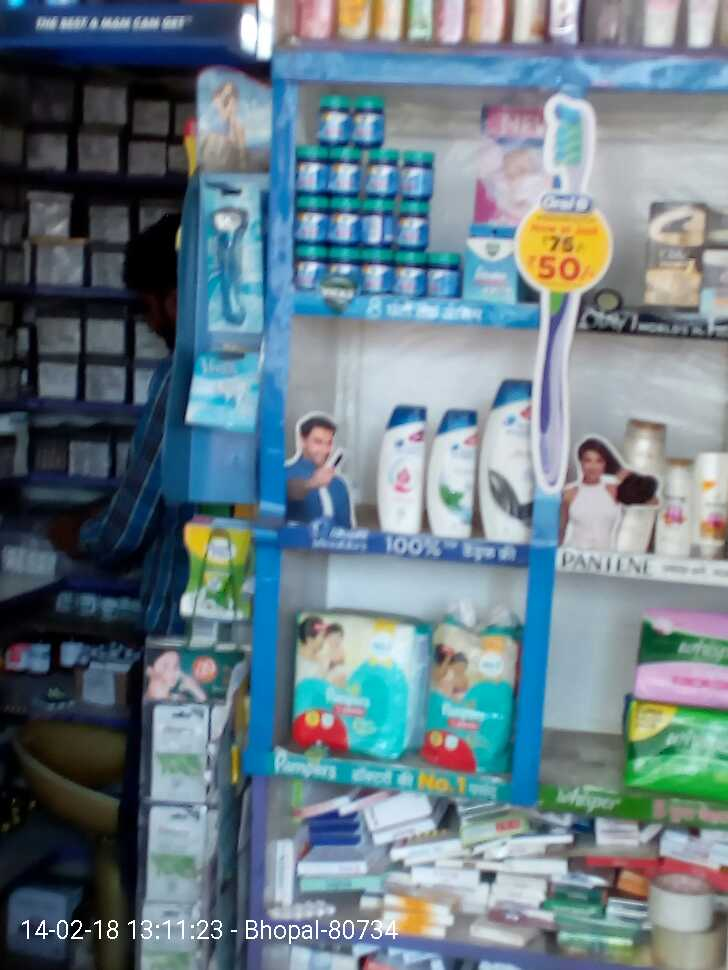beauty: (479, 375, 539, 546), (365, 404, 425, 539), (644, 190, 702, 310), (423, 407, 477, 535), (657, 458, 692, 561), (697, 455, 725, 563)
pharmacy: (288, 613, 416, 759), (427, 606, 520, 769), (619, 694, 728, 794), (630, 613, 727, 702), (462, 238, 523, 301), (392, 244, 438, 304), (347, 90, 389, 150), (327, 144, 370, 198), (397, 149, 441, 200), (292, 135, 329, 195), (314, 94, 350, 147), (429, 250, 463, 303), (353, 201, 393, 243), (390, 199, 425, 246), (366, 144, 397, 197), (361, 246, 395, 294), (326, 194, 357, 244), (290, 196, 325, 240), (295, 244, 324, 291)
